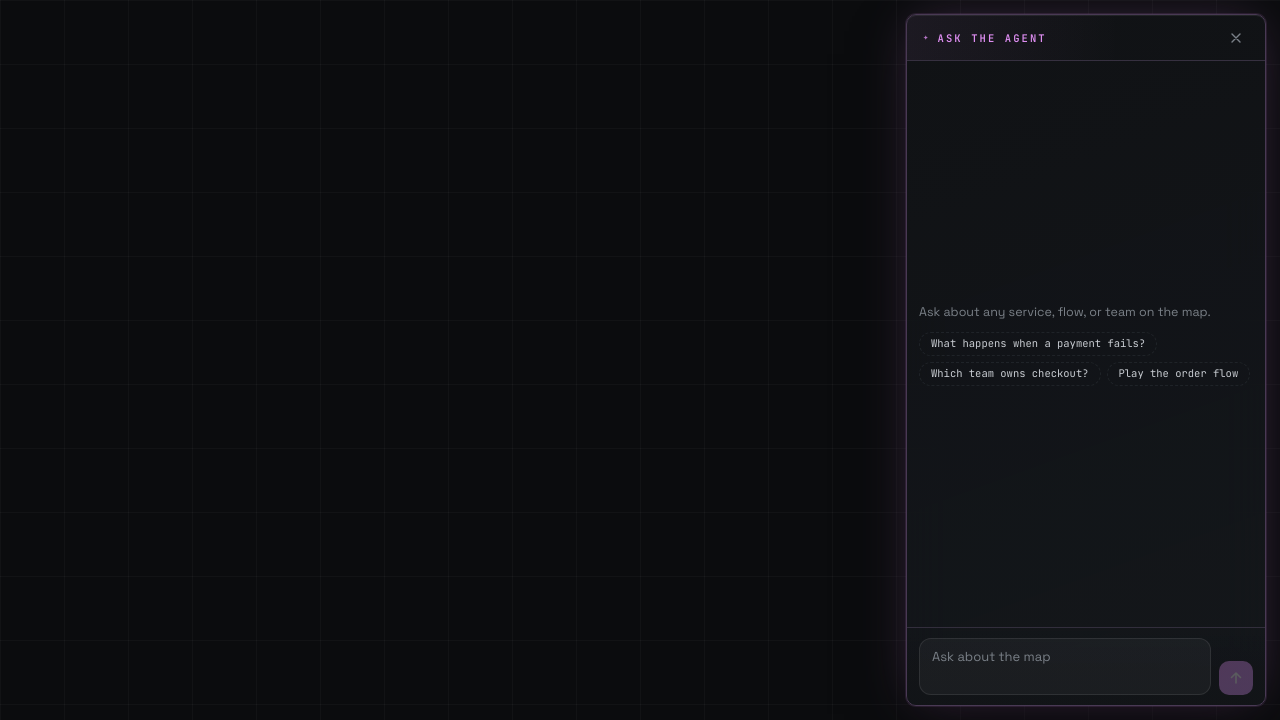
AgentChat with useAgentChat › Stop re-enables the composer and marks the reply as stopped
This screenshot has width=1280, height=720.
Type "Who owns payments?" into the text box named "Your question" at (1065, 666), box [919,638,1211,695]
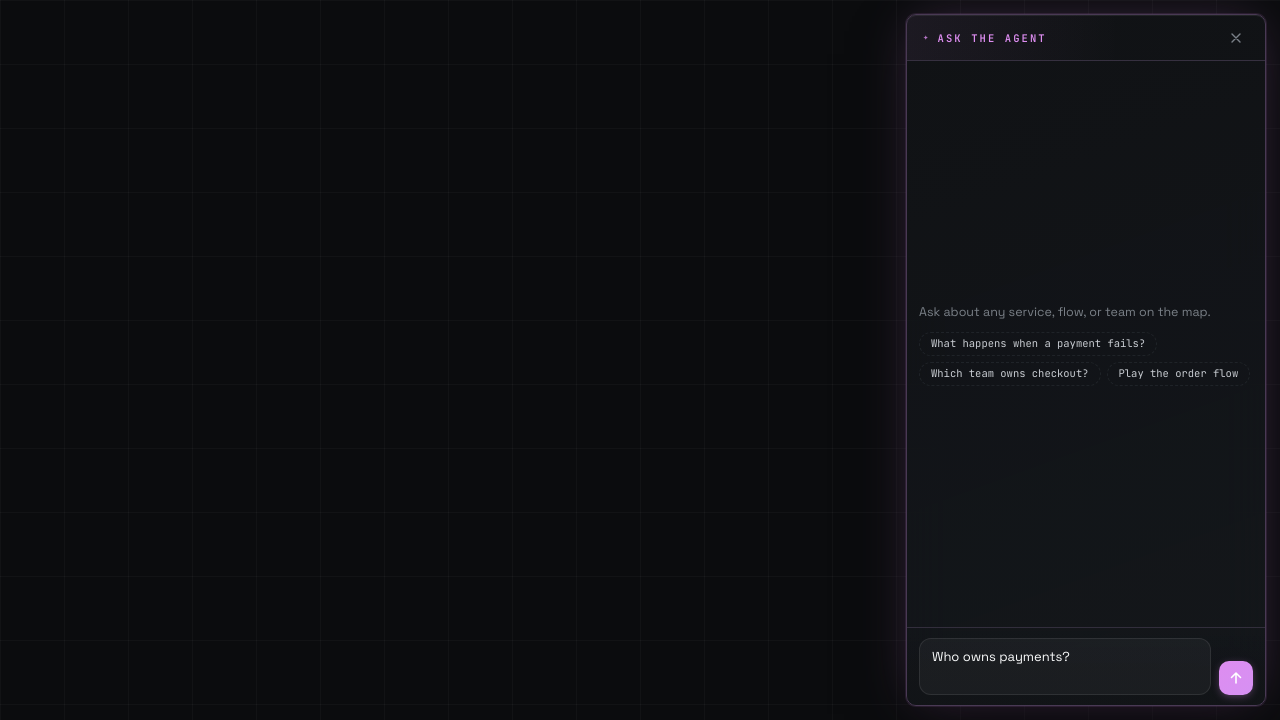
Click the button named "Send" at (1236, 678), box [1219,661,1253,695]
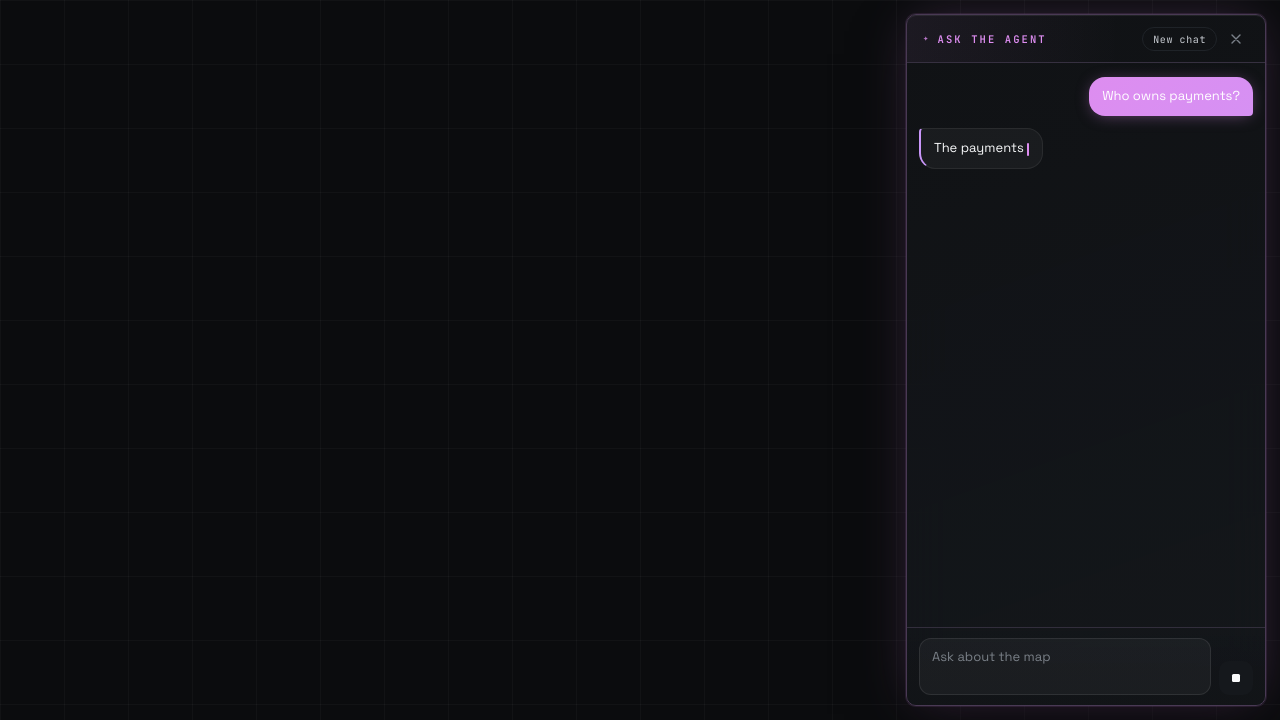
Click the button named "Stop" at (1236, 678), box [1219,661,1253,695]
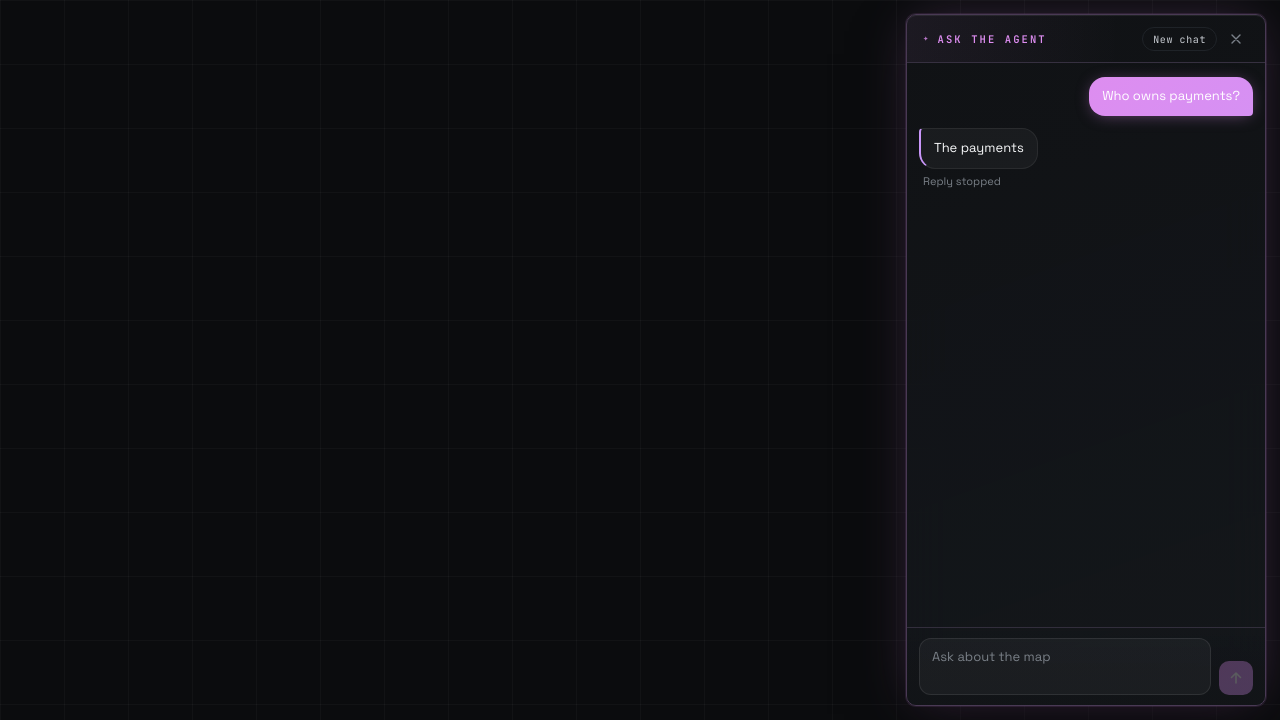
Expected: the text "Reply stopped" is shown, [923,174,1001,188]
Type "And cart?" into the text box named "Your question" at (1065, 666), box [919,638,1211,695]
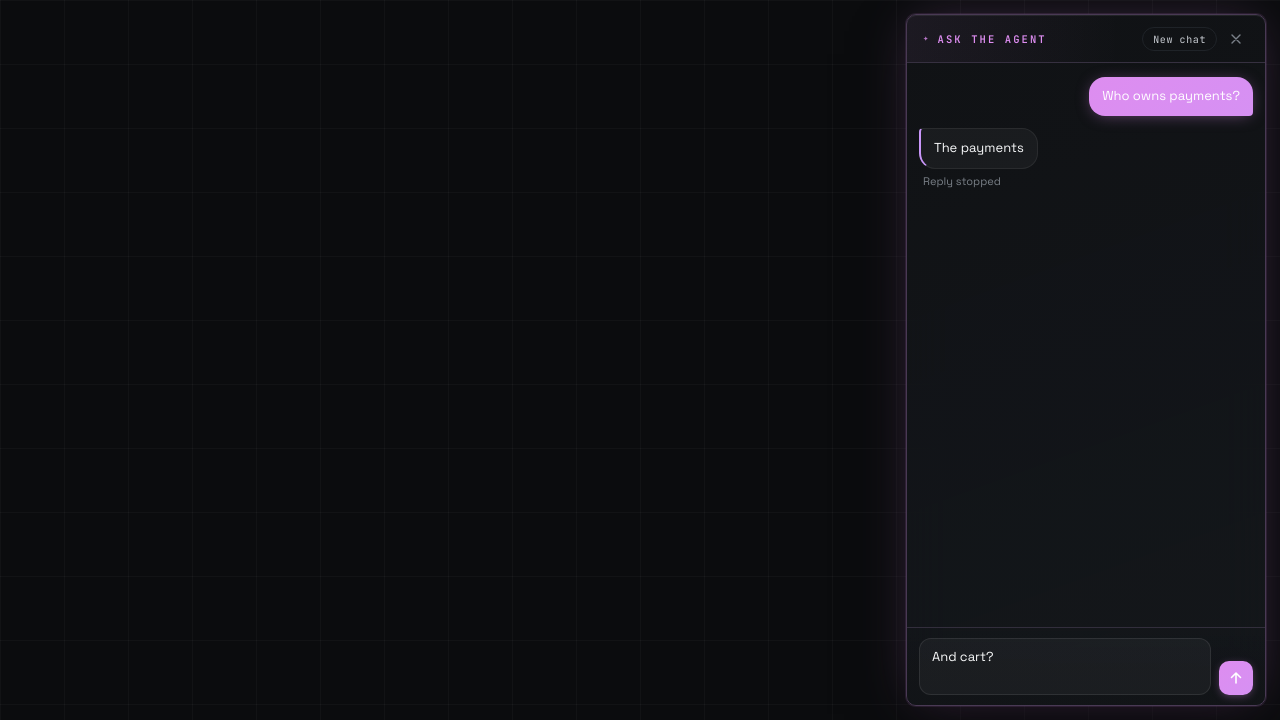
Expected: the button named "Send" is enabled, [1219,661,1253,695]
